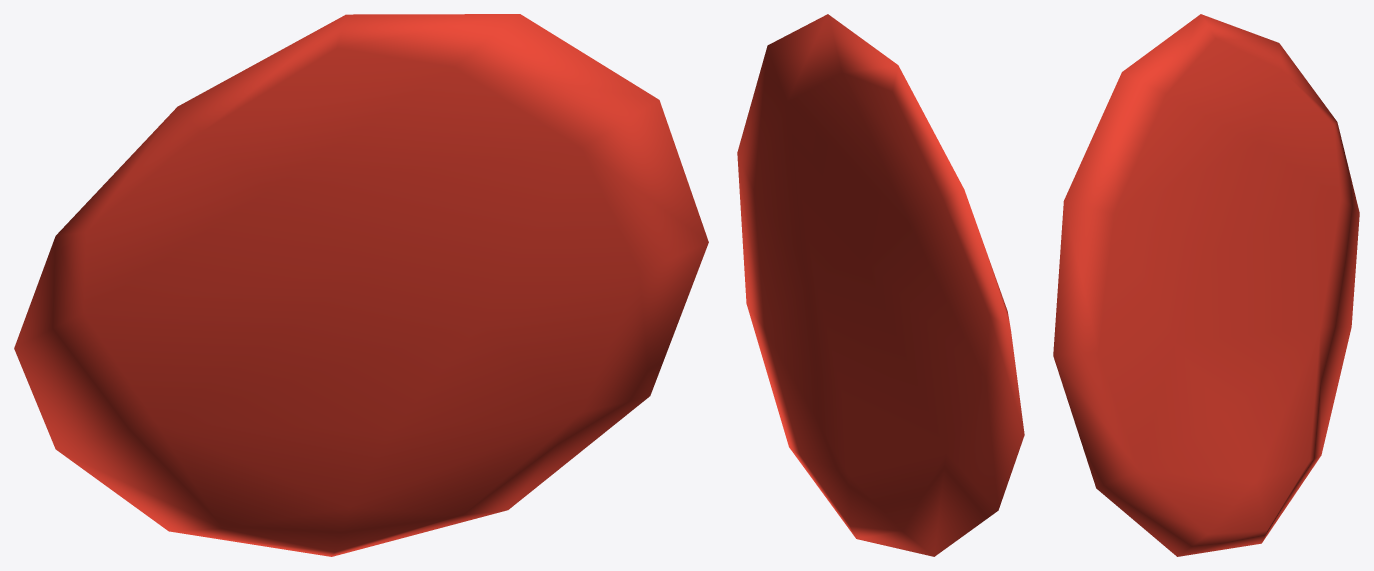
Rendered from Mentalis_insertion_right.glb.
3 views of the same model, side by side, from view 1: azimuth 30°, elevation 25°; view 2: azimuth 150°, elevation 25°; view 3: azimuth 270°, elevation 25° (orthographic). The views are drawn at different scales.
Parts seen in each view (by area): view 1: Mentalis_muscle-_Insertion.r_Generated_Mesh_From_X3D.772; view 2: Mentalis_muscle-_Insertion.r_Generated_Mesh_From_X3D.772; view 3: Mentalis_muscle-_Insertion.r_Generated_Mesh_From_X3D.772.
Boxes of the visible parts, <box> form: Mentalis_muscle-_Insertion.r_Generated_Mesh_From_X3D.772: <box>14,14,708,556</box>; Mentalis_muscle-_Insertion.r_Generated_Mesh_From_X3D.772: <box>737,14,1024,556</box>; Mentalis_muscle-_Insertion.r_Generated_Mesh_From_X3D.772: <box>1053,14,1359,556</box>.
Size of the model in its own units: 0.00574 by 0.00595 by 0.00317.
